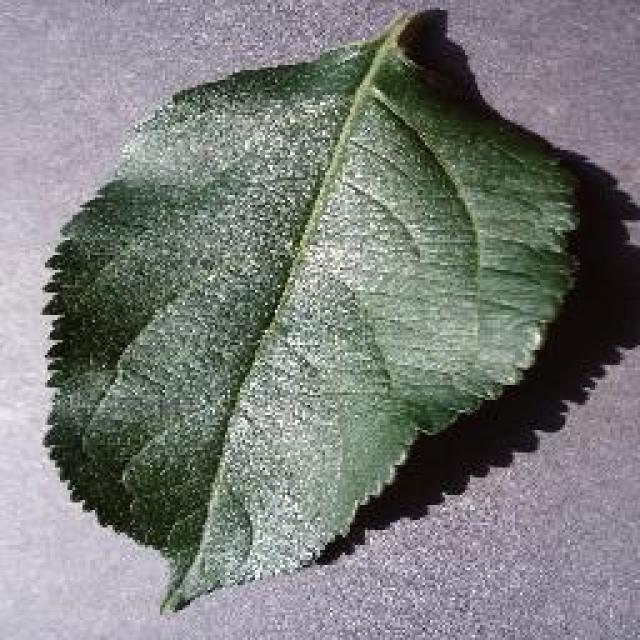apple healthy: (38, 3, 582, 615)
